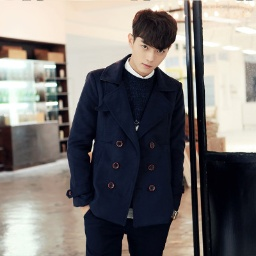face: (127, 9, 177, 75)
